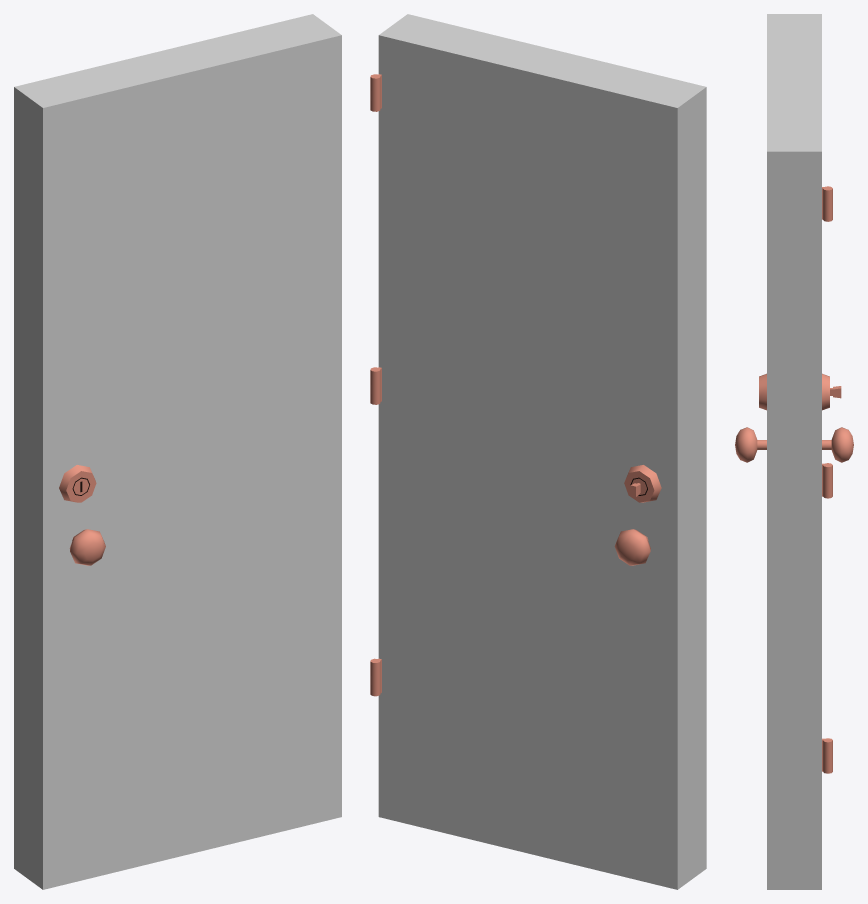
File: Door Exterior.fbx
3 renders of one model, left to right at view 1: azimuth 30°, elevation 25°; view 2: azimuth 150°, elevation 25°; view 3: azimuth 270°, elevation 25°, orthographic. The views are drawn at different scales.
Parts seen in each view (by area): view 1: Door Exterior; view 2: Door Exterior; view 3: Door Exterior.
Boxes of the visible parts, x1,y1,x2,y2 form: Door Exterior: (14,14,341,889); Door Exterior: (370,14,706,889); Door Exterior: (735,14,853,889).
Size of the model in its own units: 81.22 by 200 by 29.2.
